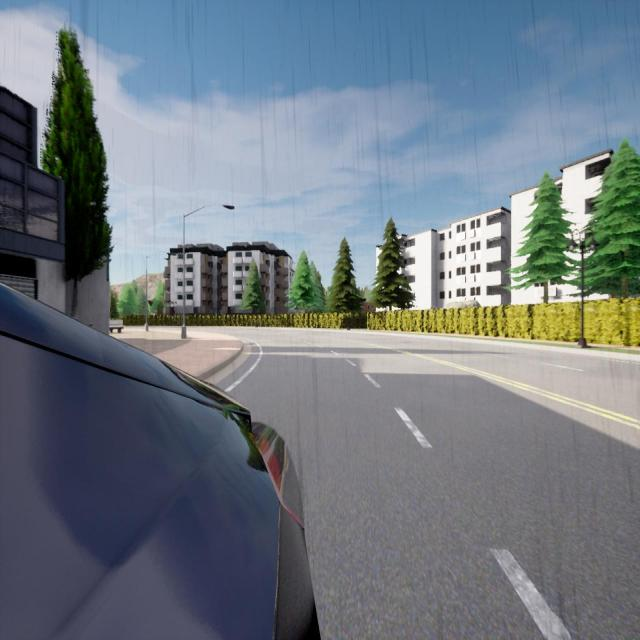Vehicle: (0, 285, 318, 638)
